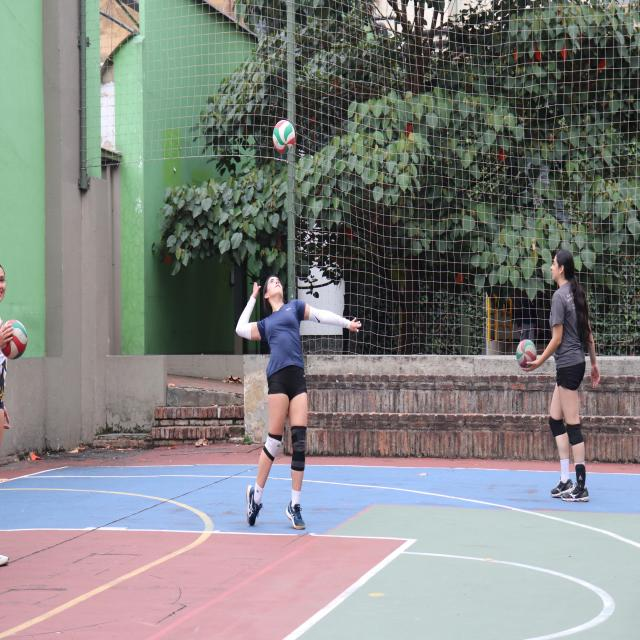volleyball: (0, 320, 27, 360), (273, 120, 295, 154), (516, 338, 537, 368)
